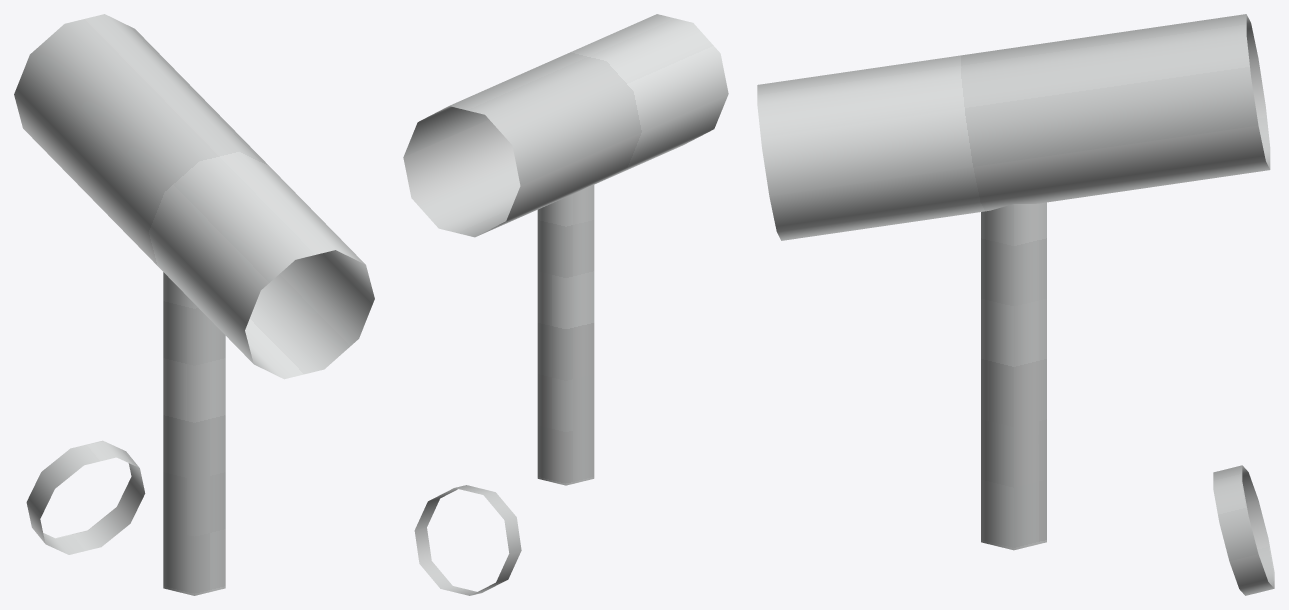
The model's file is trusssignalarm_sloped12_c5.obj.
3 views of the same model, side by side, from view 1: azimuth 30°, elevation 25°; view 2: azimuth 150°, elevation 25°; view 3: azimuth 270°, elevation 25° (orthographic). The views are drawn at different scales.
Parts seen in each view (by area): view 1: trusssignalarm_sloped12_c5; view 2: trusssignalarm_sloped12_c5; view 3: trusssignalarm_sloped12_c5.
Part boxes in pixels (x1,y1,x2,y2): trusssignalarm_sloped12_c5: [14, 14, 374, 595]; trusssignalarm_sloped12_c5: [403, 14, 728, 595]; trusssignalarm_sloped12_c5: [757, 14, 1274, 595].
Bounding box in the file's own units: 0.325 × 1.27 × 1.06.
